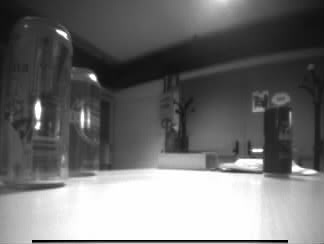Tin can: (1, 16, 72, 186), (61, 66, 103, 176), (260, 103, 294, 177)
